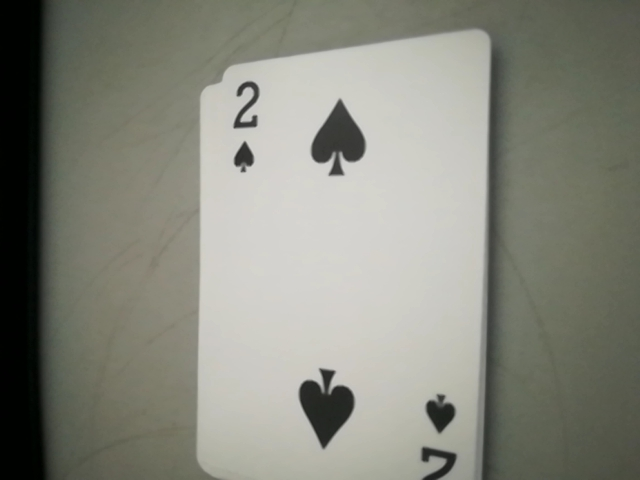ht 2: (212, 73, 286, 190)
